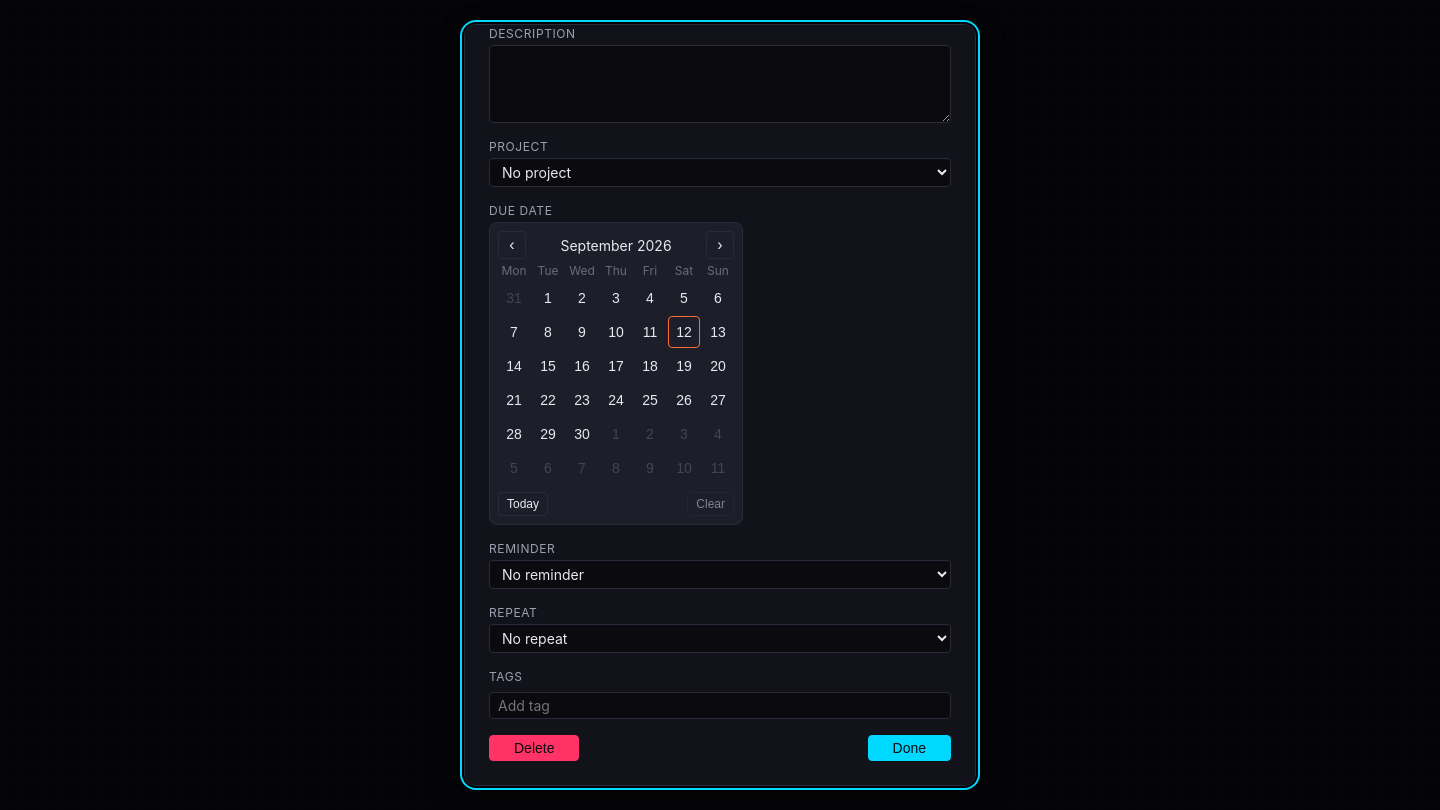
Test case: TodoDetail › does not delete when the confirmation is cancelled
(page scrolled)
Click the button with aria-label "Delete todo": (534, 748) [489,735,580,761]
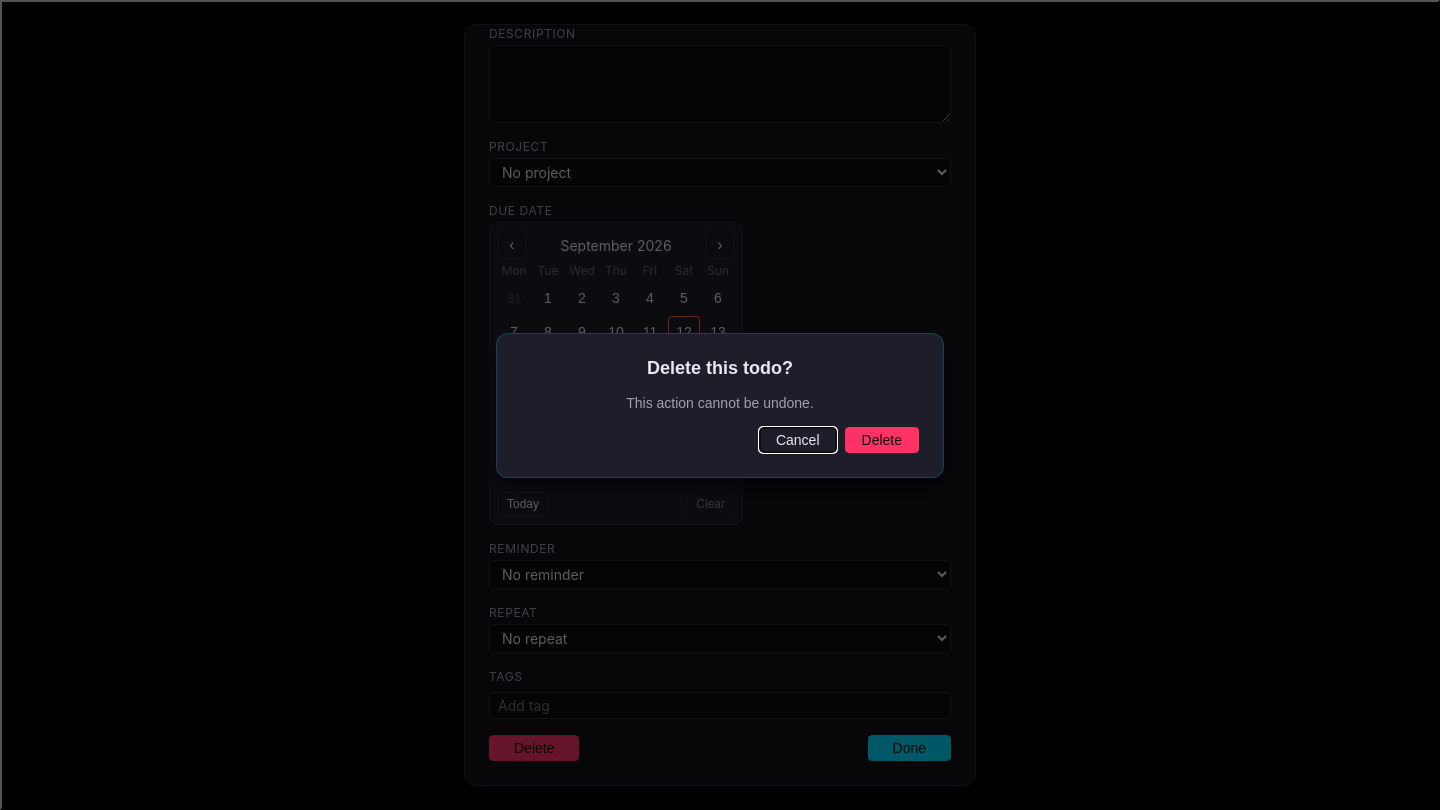
Click the button "Cancel": (798, 440) [759,426,836,452]
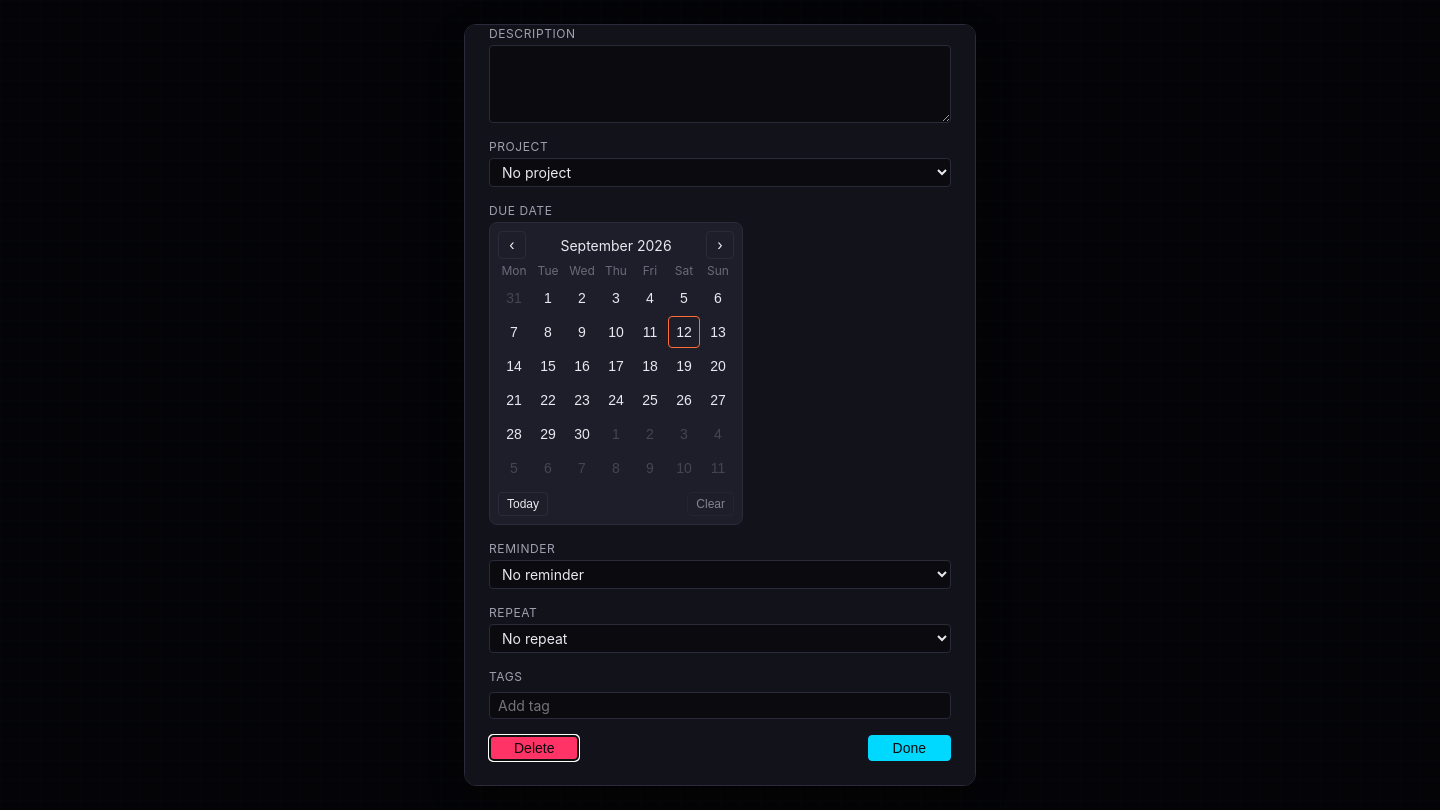
Check: the button "Delete this todo?" is gone
